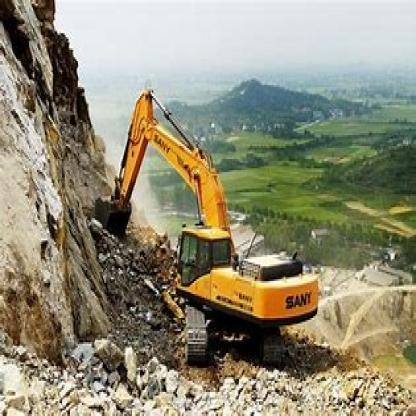excavator: (89, 76, 334, 375)
